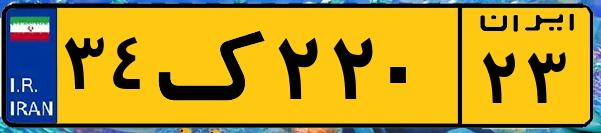0: (385, 28, 445, 110)
2: (270, 28, 330, 110), (330, 28, 385, 110), (475, 38, 525, 113)
3: (57, 26, 110, 100), (525, 38, 570, 115)
4: (110, 28, 158, 98)
ک: (158, 12, 270, 120)
